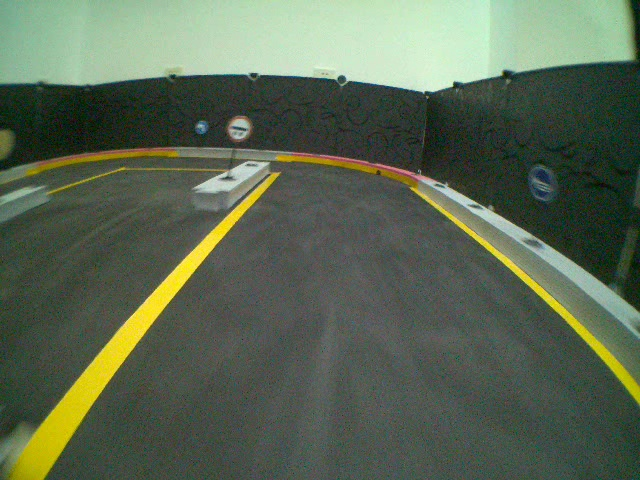Check: (227, 114, 252, 140)
horn: (526, 165, 558, 204)
turn: (195, 120, 208, 135)
